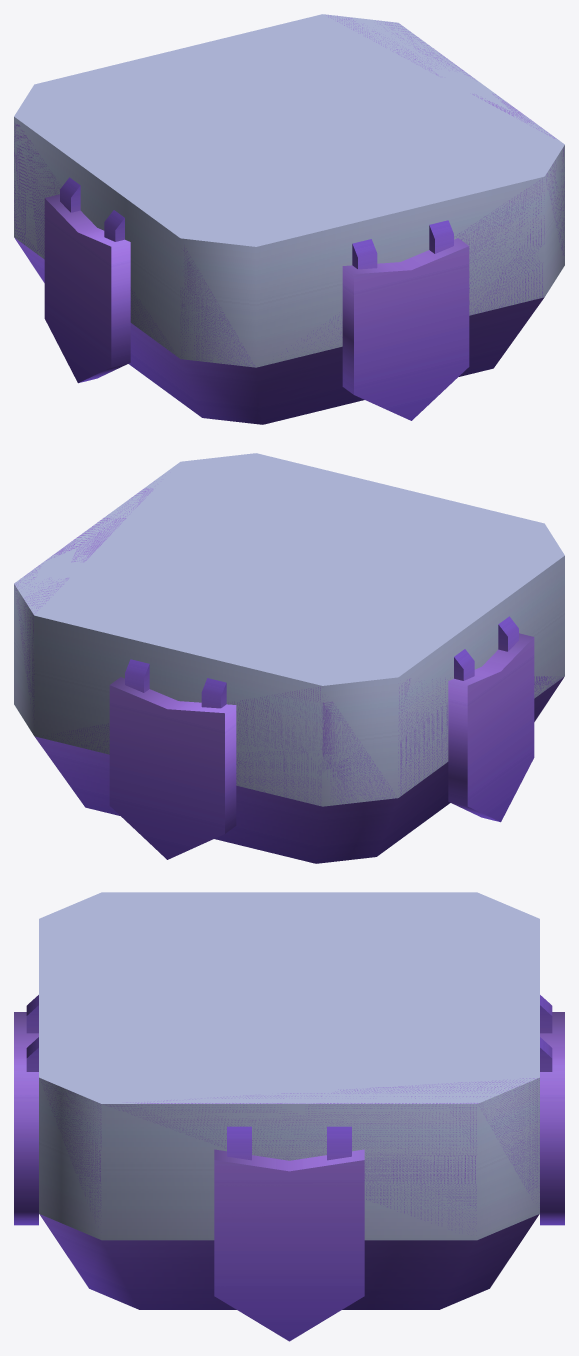
File: tower-square-middle-a.glb
3 views of the same model, one above another, from view 1: azimuth 30°, elevation 25°; view 2: azimuth 150°, elevation 25°; view 3: azimuth 270°, elevation 25° (orthographic). The views are drawn at different scales.
Parts seen in each view (by area): view 1: tower-square-middle-a; view 2: tower-square-middle-a; view 3: tower-square-middle-a.
Part boxes in pixels (x1=…): tower-square-middle-a: x1=14, y1=14, x2=564, y2=424; tower-square-middle-a: x1=14, y1=453, x2=564, y2=863; tower-square-middle-a: x1=14, y1=892, x2=564, y2=1341.
Size of the model in its own units: 1.1 by 0.5 by 1.1.
Materials: 1 (1 with a texture image).
